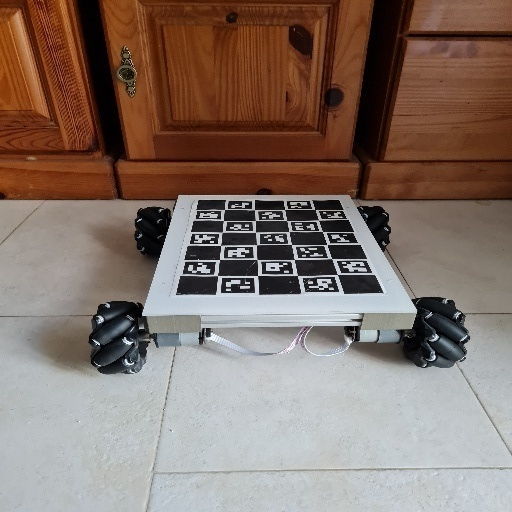Omniwheel: (90, 193, 470, 378)
